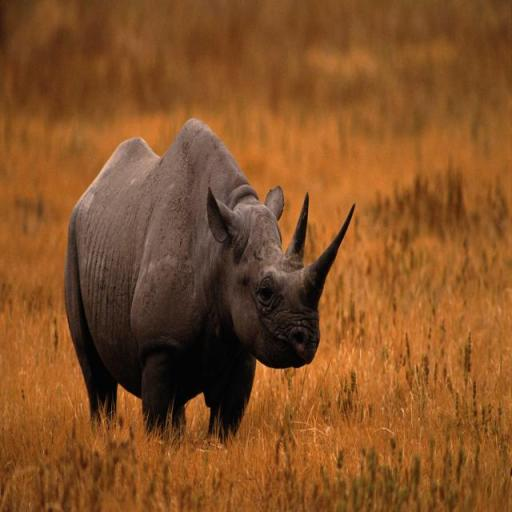Rhino: (64, 116, 356, 448)
